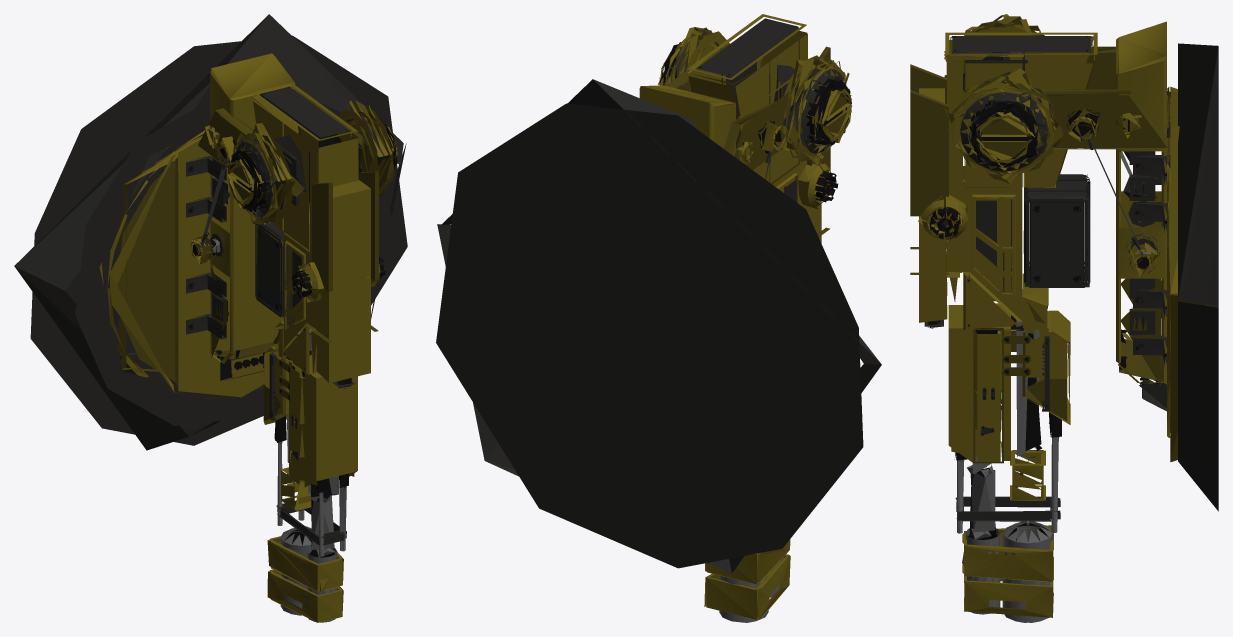
Rendered from Turret.obj.
3 renders of one model, left to right at view 1: azimuth 30°, elevation 25°; view 2: azimuth 150°, elevation 25°; view 3: azimuth 270°, elevation 25°, orthographic. The views are drawn at different scales.
Visible parts, largest first — view 1: pCylinder22_T_Grey_0, pCylinder23_T_yellow_0, pCube1_T_yellow_0, pCube7_T_yellow_0, pCube5_T_yellow_0, pCylinder23_T_D_yellow_0, pCube9_T_yellow_0, polySurface53_T_yellow_0, polySurface28_T_D_yellow_0, pCube6_T_Grey_0, Turret_Detail_pCube22_T_yellow_0, Turret_Detail_pCube13_T_yellow_0 (+20 smaller); view 2: pCylinder22_T_Grey_0, pCube5_T_yellow_0, polySurface53_T_yellow_0, pCube1_T_yellow_0, Turret_Detail_pCube13_T_yellow_0, polySurface55_T_D_yellow_0, pCube5_T_Grey_0, polySurface51_T_Grey_0, polySurface49_T_Black_0, Turret_Detail_pCube22_T_yellow_0, polySurface47_T_yellow_0, polySurface53_T_D_yellow_0 (+2 smaller); view 3: pCylinder22_T_Grey_0, pCube5_T_yellow_0, pCube1_T_yellow_0, pCube9_T_yellow_0, pCube6_T_Grey_0, polySurface55_T_D_yellow_0, polySurface28_T_D_yellow_0, polySurface53_T_yellow_0, pCylinder23_T_yellow_0, pCube10_T_yellow_0, Turret_Detail_pCube22_T_yellow_0, pCylinder3_T_smooth_0 (+32 smaller).
Part boxes in pixels (left/top/right/bottom): pCylinder22_T_Grey_0: left=14, top=14, right=407, bottom=450; pCylinder23_T_yellow_0: left=99, top=129, right=264, bottom=398; pCube1_T_yellow_0: left=210, top=53, right=295, bottom=363; pCube7_T_yellow_0: left=311, top=180, right=370, bottom=383; pCube5_T_yellow_0: left=253, top=82, right=358, bottom=374; pCylinder23_T_D_yellow_0: left=117, top=160, right=309, bottom=381; pCube9_T_yellow_0: left=289, top=355, right=357, bottom=487; polySurface53_T_yellow_0: left=231, top=100, right=394, bottom=224; polySurface28_T_D_yellow_0: left=312, top=171, right=378, bottom=342; pCube6_T_Grey_0: left=255, top=222, right=309, bottom=317; Turret_Detail_pCube22_T_yellow_0: left=267, top=536, right=343, bottom=591; Turret_Detail_pCube13_T_yellow_0: left=267, top=569, right=343, bottom=622; pCylinder22_T_Grey_0: left=436, top=79, right=881, bottom=573; pCube5_T_yellow_0: left=687, top=14, right=807, bottom=212; polySurface53_T_yellow_0: left=665, top=27, right=849, bottom=165; pCube1_T_yellow_0: left=639, top=85, right=735, bottom=156; Turret_Detail_pCube13_T_yellow_0: left=704, top=554, right=790, bottom=619; polySurface55_T_D_yellow_0: left=665, top=49, right=790, bottom=170; pCube5_T_Grey_0: left=697, top=18, right=798, bottom=78; polySurface51_T_Grey_0: left=664, top=42, right=846, bottom=153; polySurface49_T_Black_0: left=660, top=42, right=851, bottom=146; Turret_Detail_pCube22_T_yellow_0: left=705, top=539, right=790, bottom=584; polySurface47_T_yellow_0: left=658, top=52, right=851, bottom=142; polySurface53_T_D_yellow_0: left=670, top=27, right=843, bottom=161; pCylinder22_T_Grey_0: left=1178, top=43, right=1218, bottom=511; pCube5_T_yellow_0: left=945, top=32, right=1097, bottom=329; pCube1_T_yellow_0: left=1116, top=21, right=1166, bottom=384; pCube9_T_yellow_0: left=948, top=305, right=1010, bottom=462; pCube6_T_Grey_0: left=1024, top=174, right=1090, bottom=287; polySurface55_T_D_yellow_0: left=944, top=46, right=1171, bottom=149; polySurface28_T_D_yellow_0: left=910, top=64, right=948, bottom=274; polySurface53_T_yellow_0: left=944, top=14, right=1063, bottom=183; pCylinder23_T_yellow_0: left=1167, top=86, right=1207, bottom=462; pCube10_T_yellow_0: left=1022, top=273, right=1070, bottom=424; Turret_Detail_pCube22_T_yellow_0: left=962, top=525, right=1053, bottom=581; pCylinder3_T_smooth_0: left=1002, top=289, right=1053, bottom=622.
Bounding box in the file's own units: 40.92 × 52.03 × 24.26.
